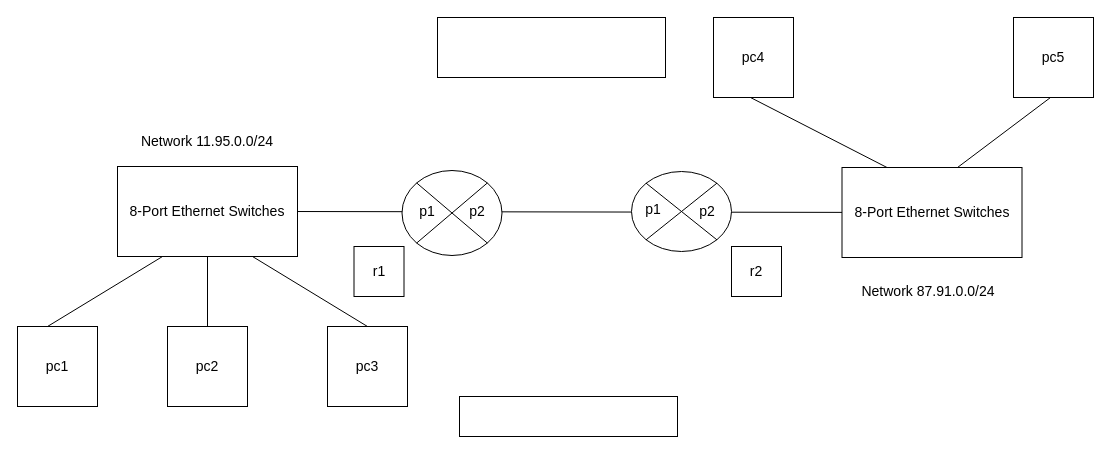
Some shapes in this 1111 by 454 pixel diagram are drawn without their labels. The box of each missing label's shape, as (x1, y1, x2, y2) in pixels:
1 G/S point-to-point WAN link: (436, 16, 666, 78)
Network 10.0.0.0/24: (458, 396, 678, 436)
